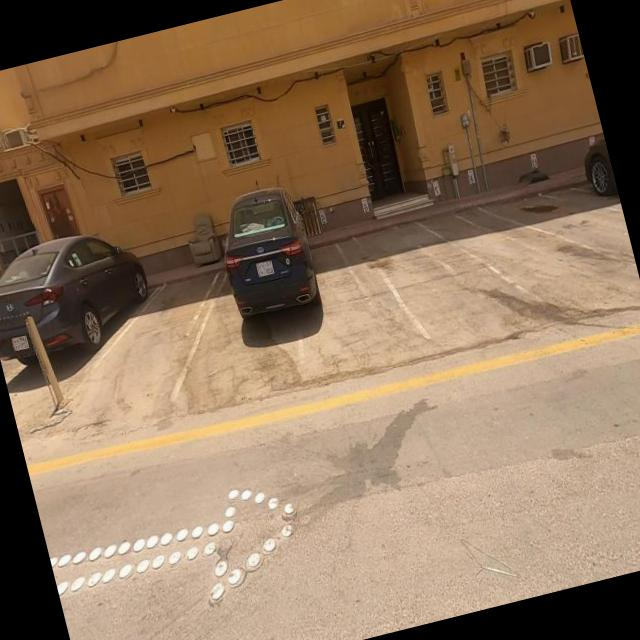debris: (482, 128, 584, 222)
